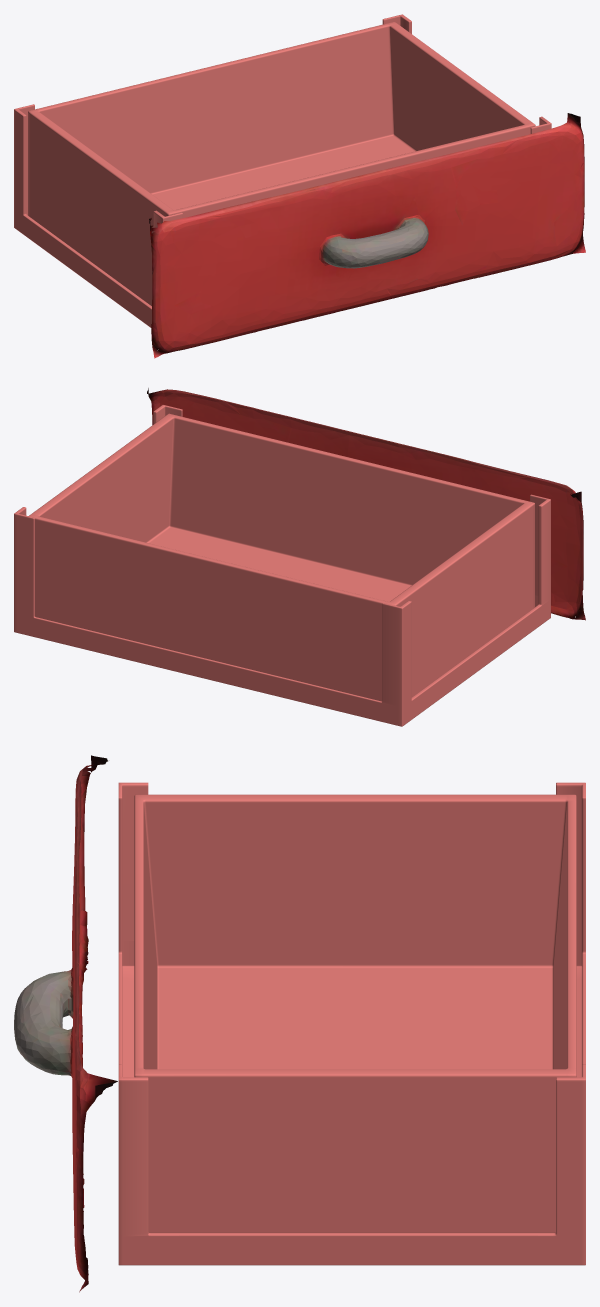
File: drawer_bottom.glb
3 renders of one model, top to bottom at view 1: azimuth 30°, elevation 25°; view 2: azimuth 150°, elevation 25°; view 3: azimuth 270°, elevation 25°, orthographic. The views are drawn at different scales.
Parts seen in each view (by area): view 1: prefab_drawer_body_3, source_front_cap_0; view 2: prefab_drawer_body_3, source_front_cap_0; view 3: prefab_drawer_body_3, source_front_cap_0.
Boxes of the visible parts, x1=… form: prefab_drawer_body_3: x1=14, y1=14, x2=551, y2=327; source_front_cap_0: x1=149, y1=113, x2=585, y2=358; prefab_drawer_body_3: x1=14, y1=405, x2=550, y2=726; source_front_cap_0: x1=147, y1=388, x2=585, y2=620; prefab_drawer_body_3: x1=118, y1=782, x2=585, y2=1265; source_front_cap_0: x1=14, y1=755, x2=117, y2=1292.
Size of the model in its own units: 0.5261 by 0.1536 by 0.3849.
2 materials, 1 textured.
